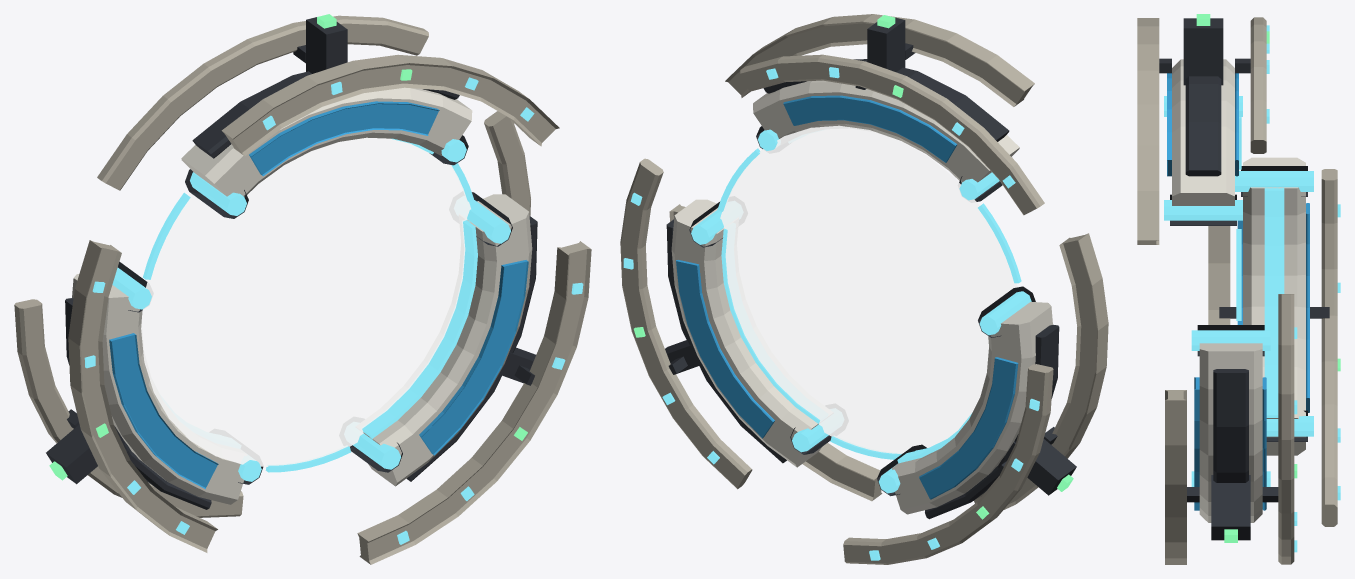
Rendered from gate_b.glb.
3 renders of one model, left to right at view 1: azimuth 30°, elevation 25°; view 2: azimuth 150°, elevation 25°; view 3: azimuth 270°, elevation 25°, orthographic. The views are drawn at different scales.
Parts seen in each view (by area): view 1: Gate_B; view 2: Gate_B; view 3: Gate_B.
Part boxes in pixels (x1,y1,x2,y2): Gate_B: [14, 14, 591, 564]; Gate_B: [620, 14, 1108, 564]; Gate_B: [1137, 14, 1340, 564].
Bounding box in the file's own units: 13.9 × 14.59 × 5.16.
